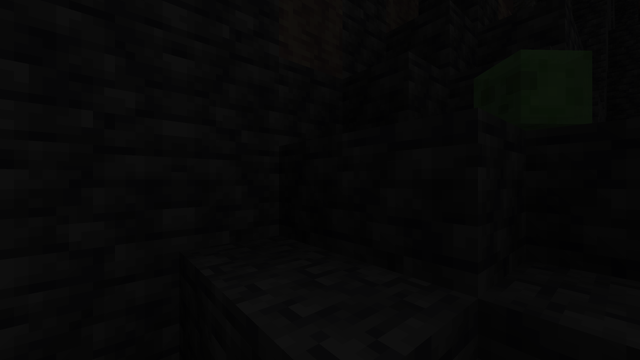slimes: (476, 37, 577, 134)
